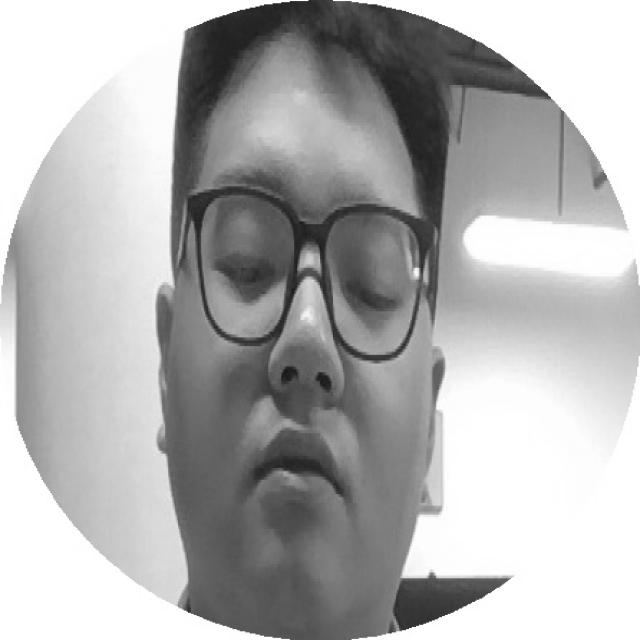real: (158, 47, 436, 631), (188, 190, 431, 331)
